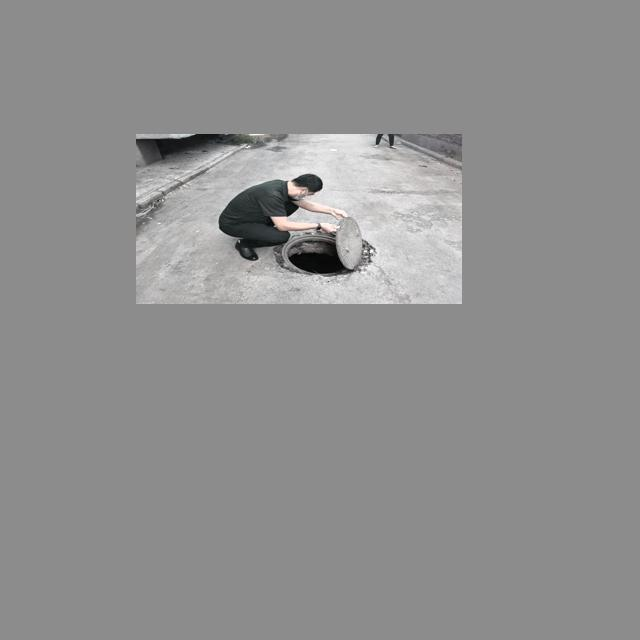circle: (255, 221, 385, 282)
